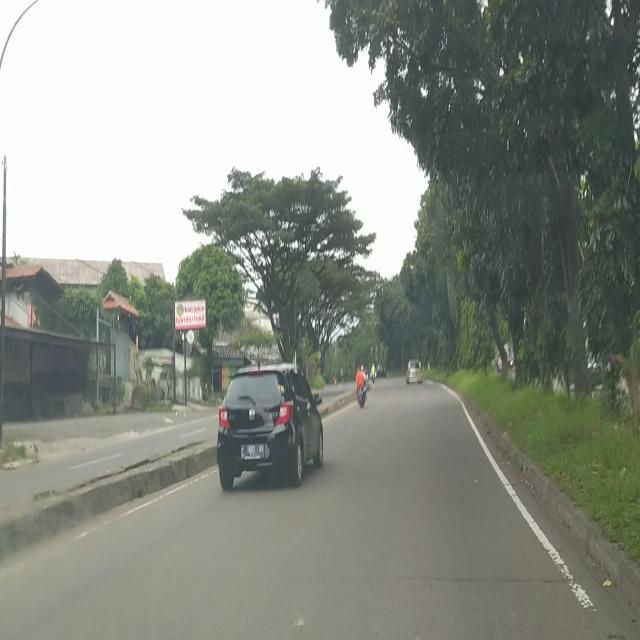Sewer Cover: (396, 570, 566, 582)
